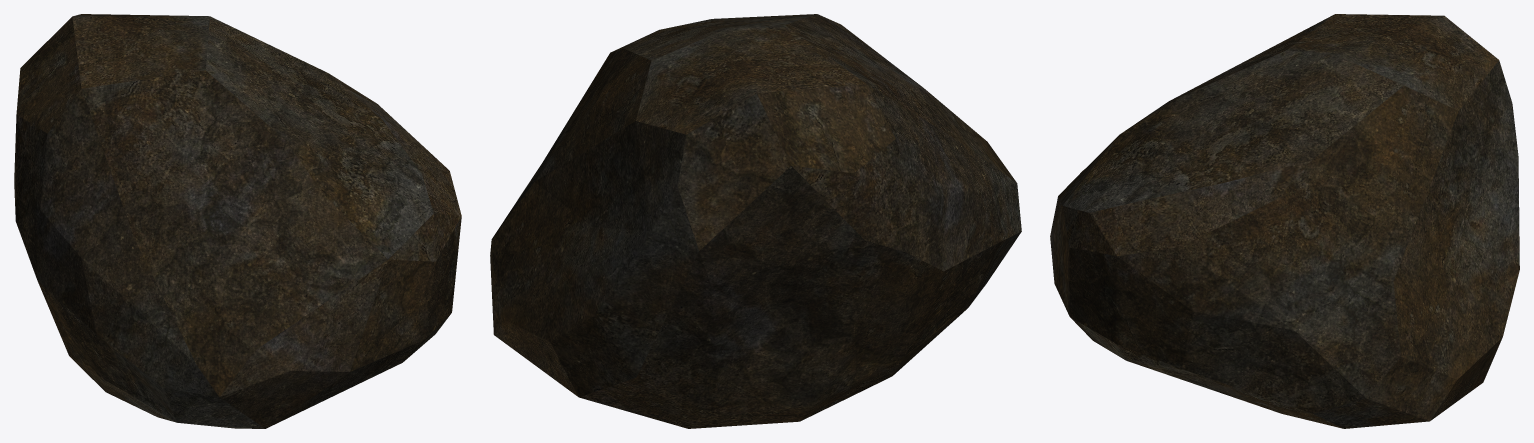
Rendered from rock.obj.
3 renders of one model, left to right at view 1: azimuth 30°, elevation 25°; view 2: azimuth 150°, elevation 25°; view 3: azimuth 270°, elevation 25°, orthographic. The views are drawn at different scales.
Parts seen in each view (by area): view 1: rock; view 2: rock; view 3: rock.
Boxes of the visible parts, x1,y1,x2,y2 form: rock: (14, 14, 461, 428); rock: (490, 14, 1021, 428); rock: (1050, 14, 1519, 428).
Bounding box in the file's own units: 2.52 × 2.12 × 2.67.
